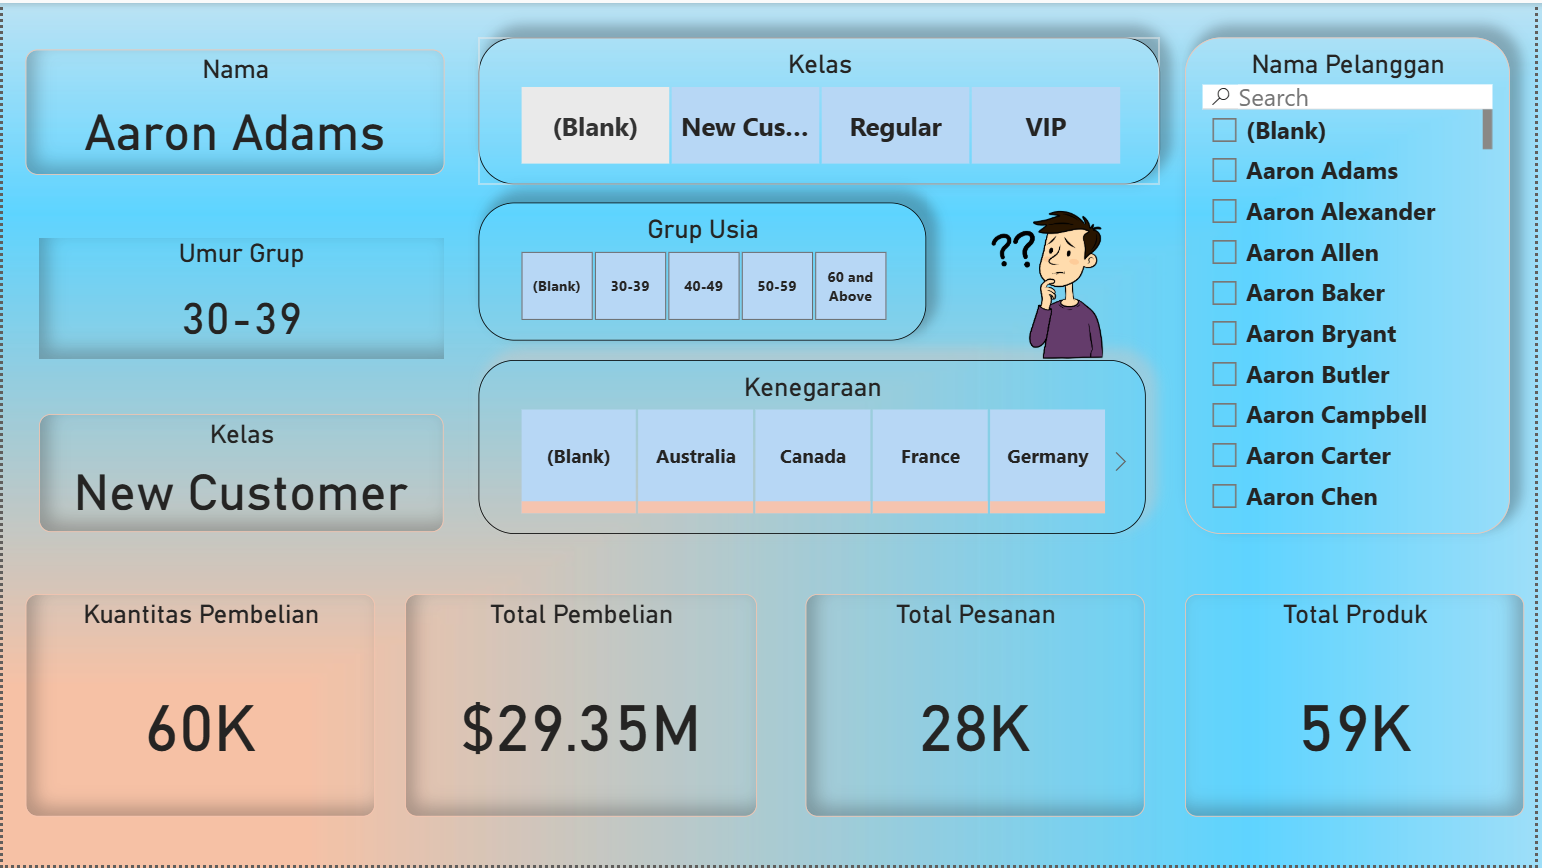

Layout of this report page (visuals, bound fields, positions):
{"tool":"powerbi","page":{"name":"Customer","canvas":[1280,720],"ordinal":1},"visuals":[{"type":"card","title":"Nama","fields":{"Values":["Min(customer_reports_fixed.customer_name)"]},"box":[18.2,39.4,349.8,104.5],"z":0},{"type":"card","title":"Umur Grup","fields":{"Values":["Min(customer_reports_fixed.age_group)"]},"box":[29.7,196.3,338.3,100.7],"z":1000},{"type":"card","title":"Kuantitas Pembelian","fields":{"Values":["Sum(customer_reports_fixed.total_quantity)"]},"box":[18.2,493.6,292.2,186.2],"z":2000},{"type":"card","title":"Total Pembelian","fields":{"Values":["Sum(customer_reports_fixed.total_sales)"]},"box":[336.2,493.6,293.8,186.2],"z":3000},{"type":"card","title":"Total Pesanan","fields":{"Values":["Sum(customer_reports_fixed.total_orders)"]},"box":[670.8,493.6,283.2,186.2],"z":4000},{"type":"card","title":"Total Produk","fields":{"Values":["Sum(customer_reports_fixed.total_product)"]},"box":[987.3,493.6,283.2,186.2],"z":5000},{"type":"slicer","title":"Grup Usia","fields":{"Values":["customer_reports_fixed.age_group"]},"box":[396.7,166.6,374,115.1],"z":6000},{"type":"slicer","title":"Kelas","fields":{"Values":["customer_reports_fixed.customer_class"]},"box":[396.7,28.8,569.3,122.7],"z":7000},{"type":"card","title":"Kelas","fields":{"Values":["Min(customer_reports_fixed.customer_class)"]},"box":[30.3,343.7,337.7,98.4],"z":8000},{"type":"slicer","title":"Nama Pelanggan","fields":{"Values":["customer_reports_fixed.customer_name"]},"box":[987.3,28.8,271,414.9],"z":9000},{"type":"slicer","title":"Kenegaraan","fields":{"Values":["customer_reports_fixed.country"]},"box":[396.7,298.3,557.2,145.4],"z":10000},{"type":"image","box":[790.5,151,163.3,170.2],"z":10500}]}

Visuals, with their boxes in screenshot pixels (x1, y1, x2, y2), scaled from the page's 1280x720 canvas onto the 1542x868 screenshot:
"Nama" card: select_region(22, 47, 443, 173)
"Umur Grup" card: select_region(36, 237, 443, 358)
"Kuantitas Pembelian" card: select_region(22, 595, 374, 820)
"Total Pembelian" card: select_region(405, 595, 759, 820)
"Total Pesanan" card: select_region(808, 595, 1149, 820)
"Total Produk" card: select_region(1189, 595, 1531, 820)
"Grup Usia" slicer: select_region(478, 201, 928, 340)
"Kelas" slicer: select_region(478, 35, 1164, 183)
"Kelas" card: select_region(37, 414, 443, 533)
"Nama Pelanggan" slicer: select_region(1189, 35, 1516, 535)
"Kenegaraan" slicer: select_region(478, 360, 1149, 535)
image: select_region(952, 182, 1149, 387)
